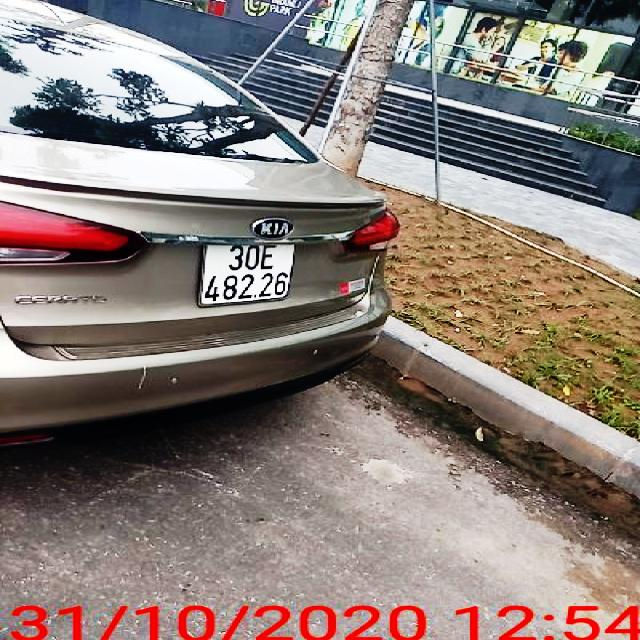license_plate: (202, 244, 298, 308)
